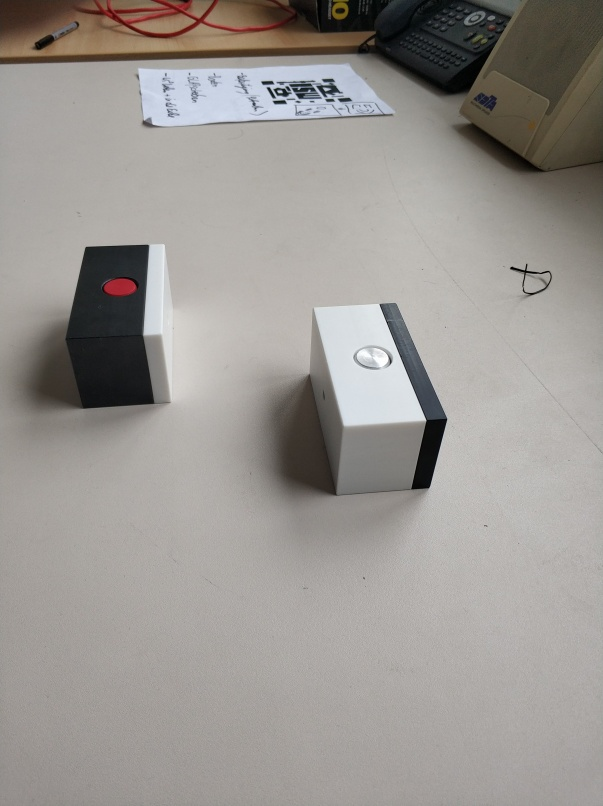black+white+silver: (306, 300, 451, 498)
white+black+red: (61, 241, 176, 411)
